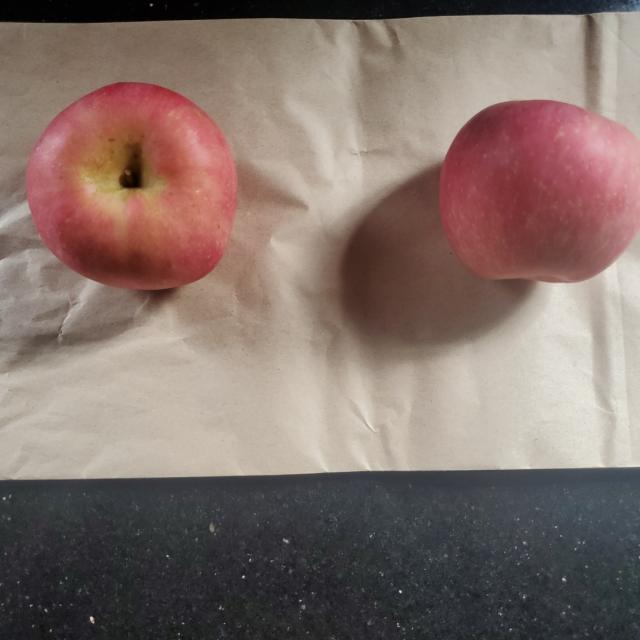apple: (28, 78, 238, 287), (440, 97, 638, 281)
